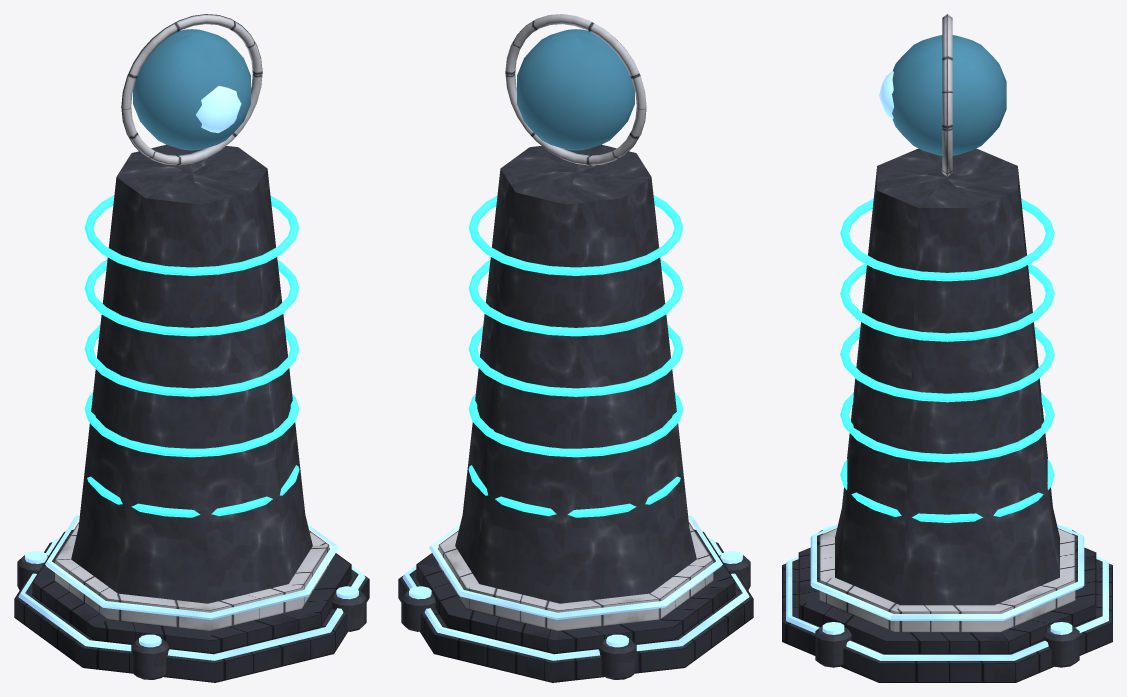
File: sf_stormeye.glb
3 renders of one model, left to right at view 1: azimuth 30°, elevation 25°; view 2: azimuth 150°, elevation 25°; view 3: azimuth 270°, elevation 25°, orthographic.
Visible parts, largest first — view 1: Base, Eye; view 2: Base, Eye; view 3: Base, Eye.
Boxes of the visible parts, bbox=[...] form: Base: bbox=[14, 144, 369, 682]; Eye: bbox=[121, 14, 262, 165]; Base: bbox=[398, 144, 753, 682]; Eye: bbox=[505, 14, 646, 165]; Base: bbox=[782, 148, 1112, 682]; Eye: bbox=[879, 14, 1006, 176].
Size of the model in its own units: 0.8684 by 1.71 by 0.8684.
6 materials, 6 textured.
